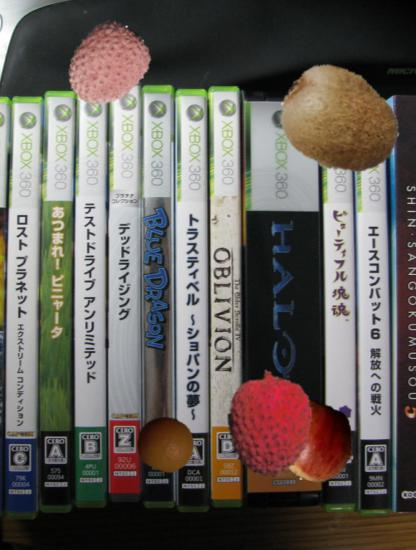Apple: (275, 401, 356, 482)
Kiwi: (279, 59, 402, 182)
Lychee: (217, 369, 325, 477), (63, 22, 151, 110)
Orange: (137, 415, 195, 473)
